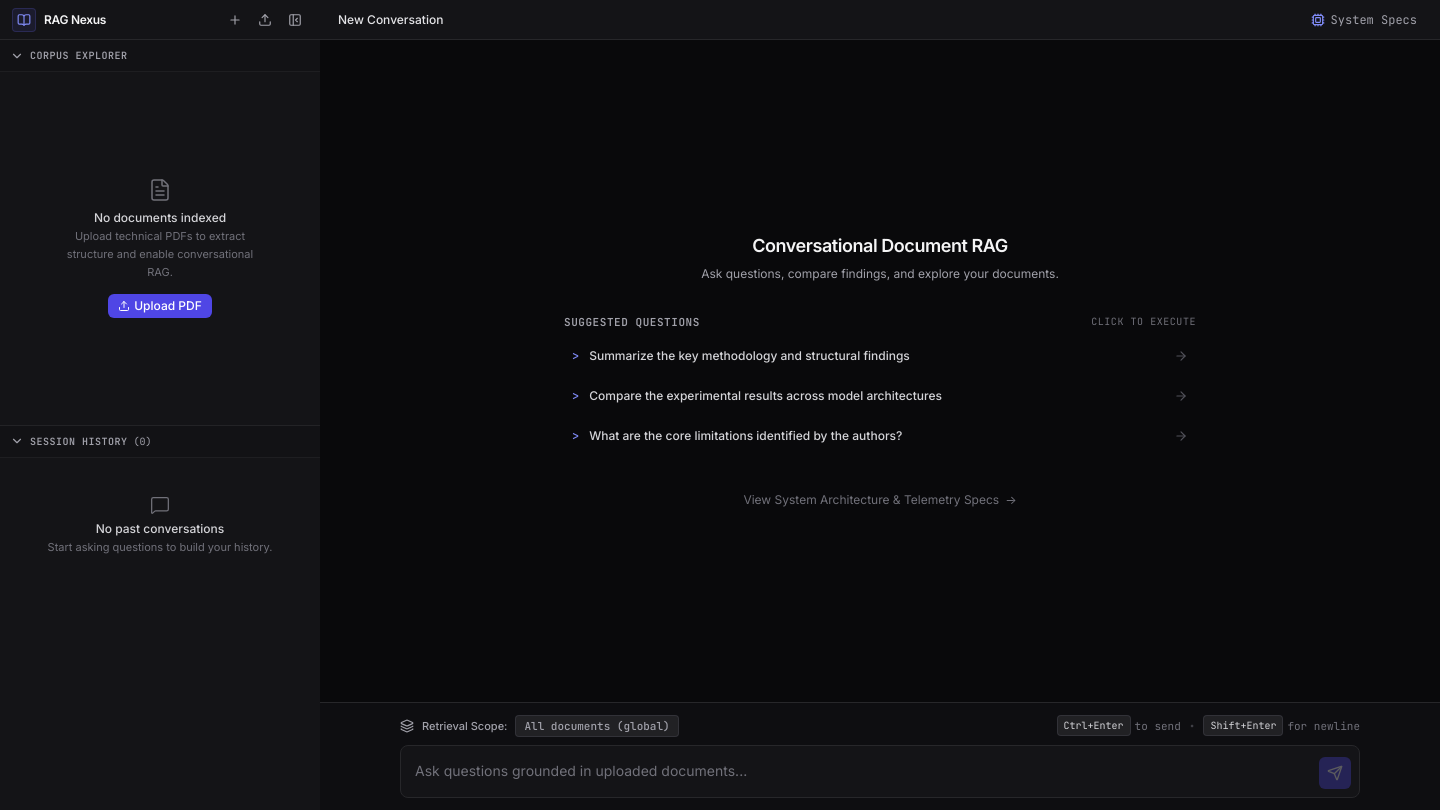
Scenario: App Integration (Document Management & Conversation Sessions) › opens and closes document upload modal via upload button
Click the button named "upload pdf".
click(265, 20)  # box x1=252 y1=6 x2=278 y2=32
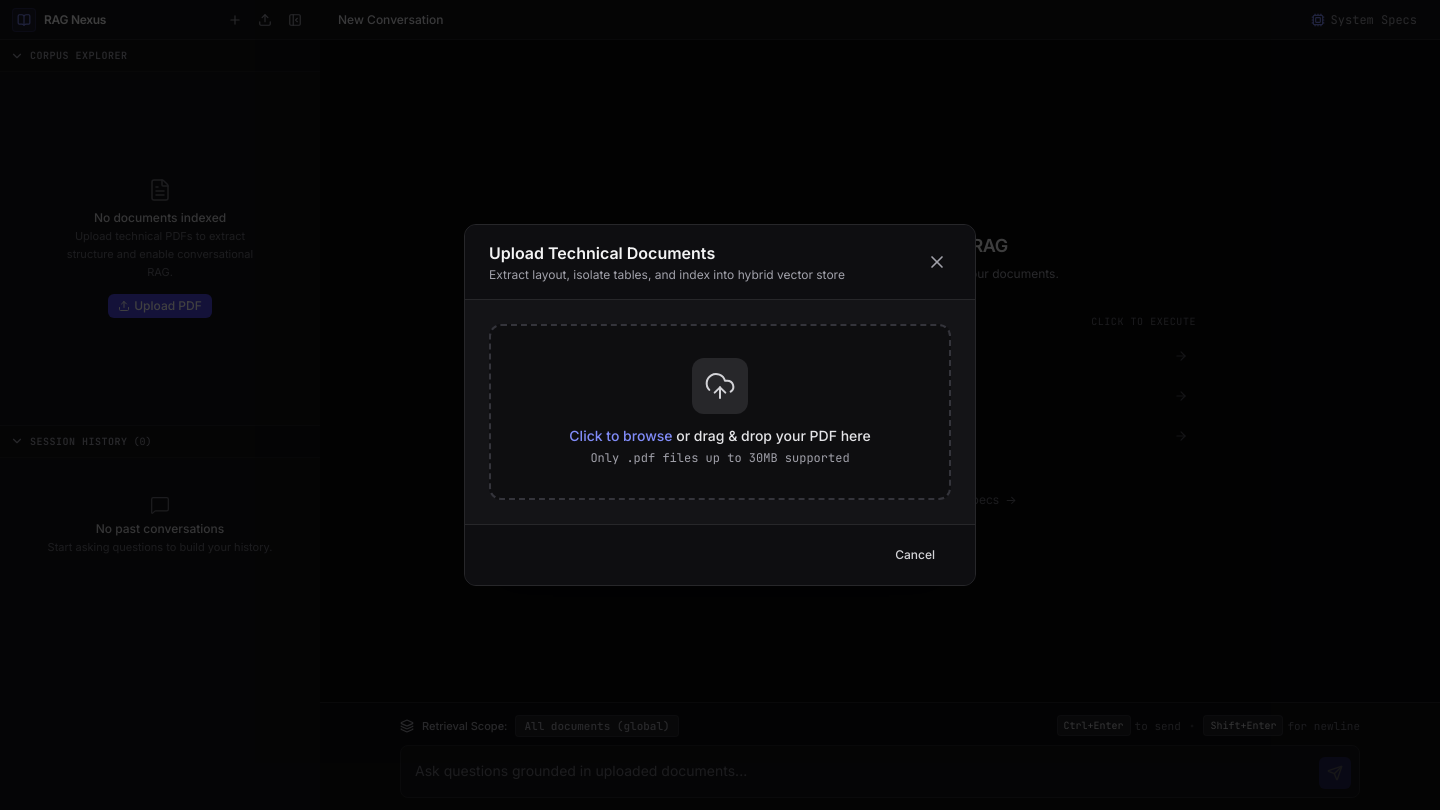
Expected: the dialog is shown
Expected: the heading "Upload Technical Documents" is shown, x1=489 y1=243 x2=715 y2=263
Click the button named "close modal".
click(937, 262)  # box x1=923 y1=248 x2=951 y2=276
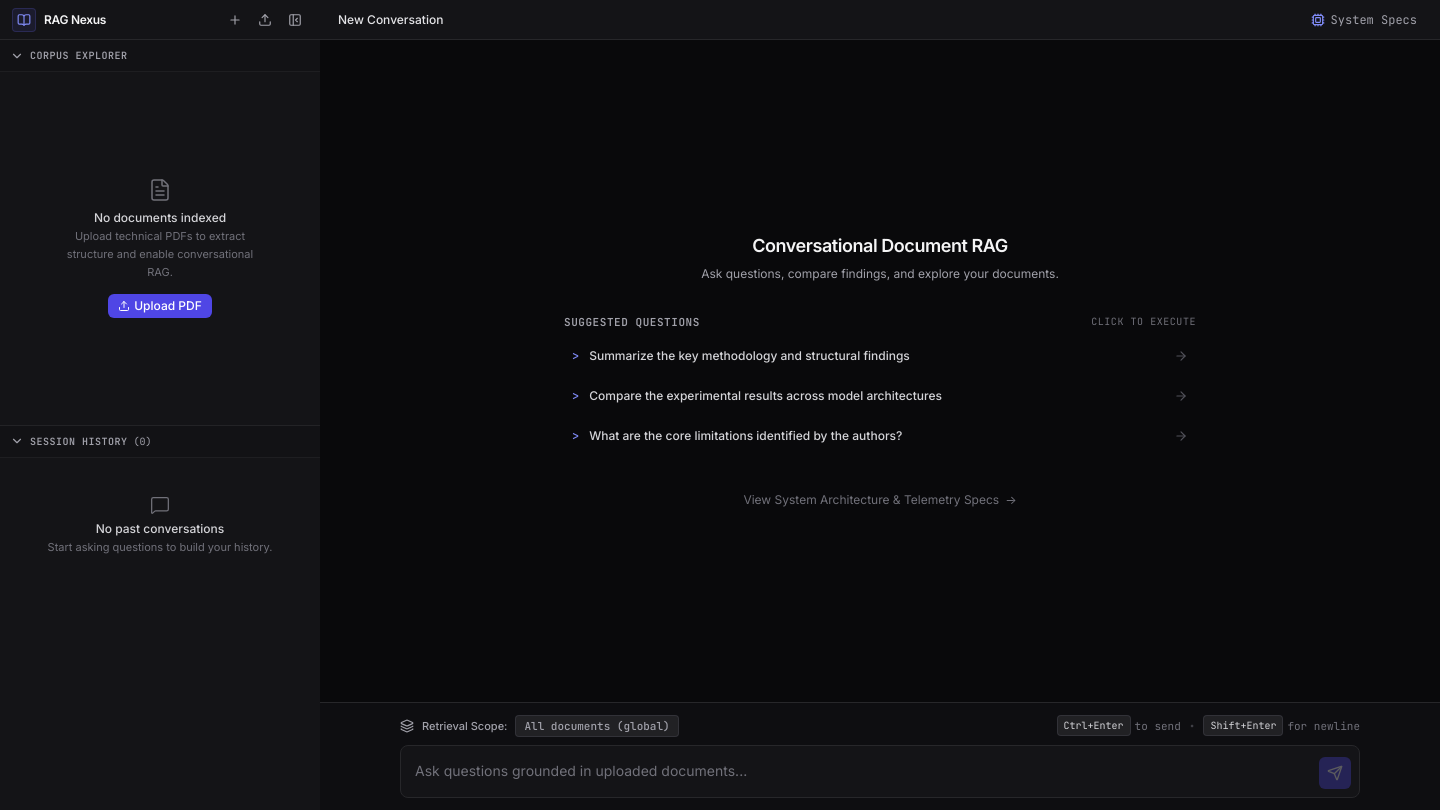
Expected: the dialog is gone
